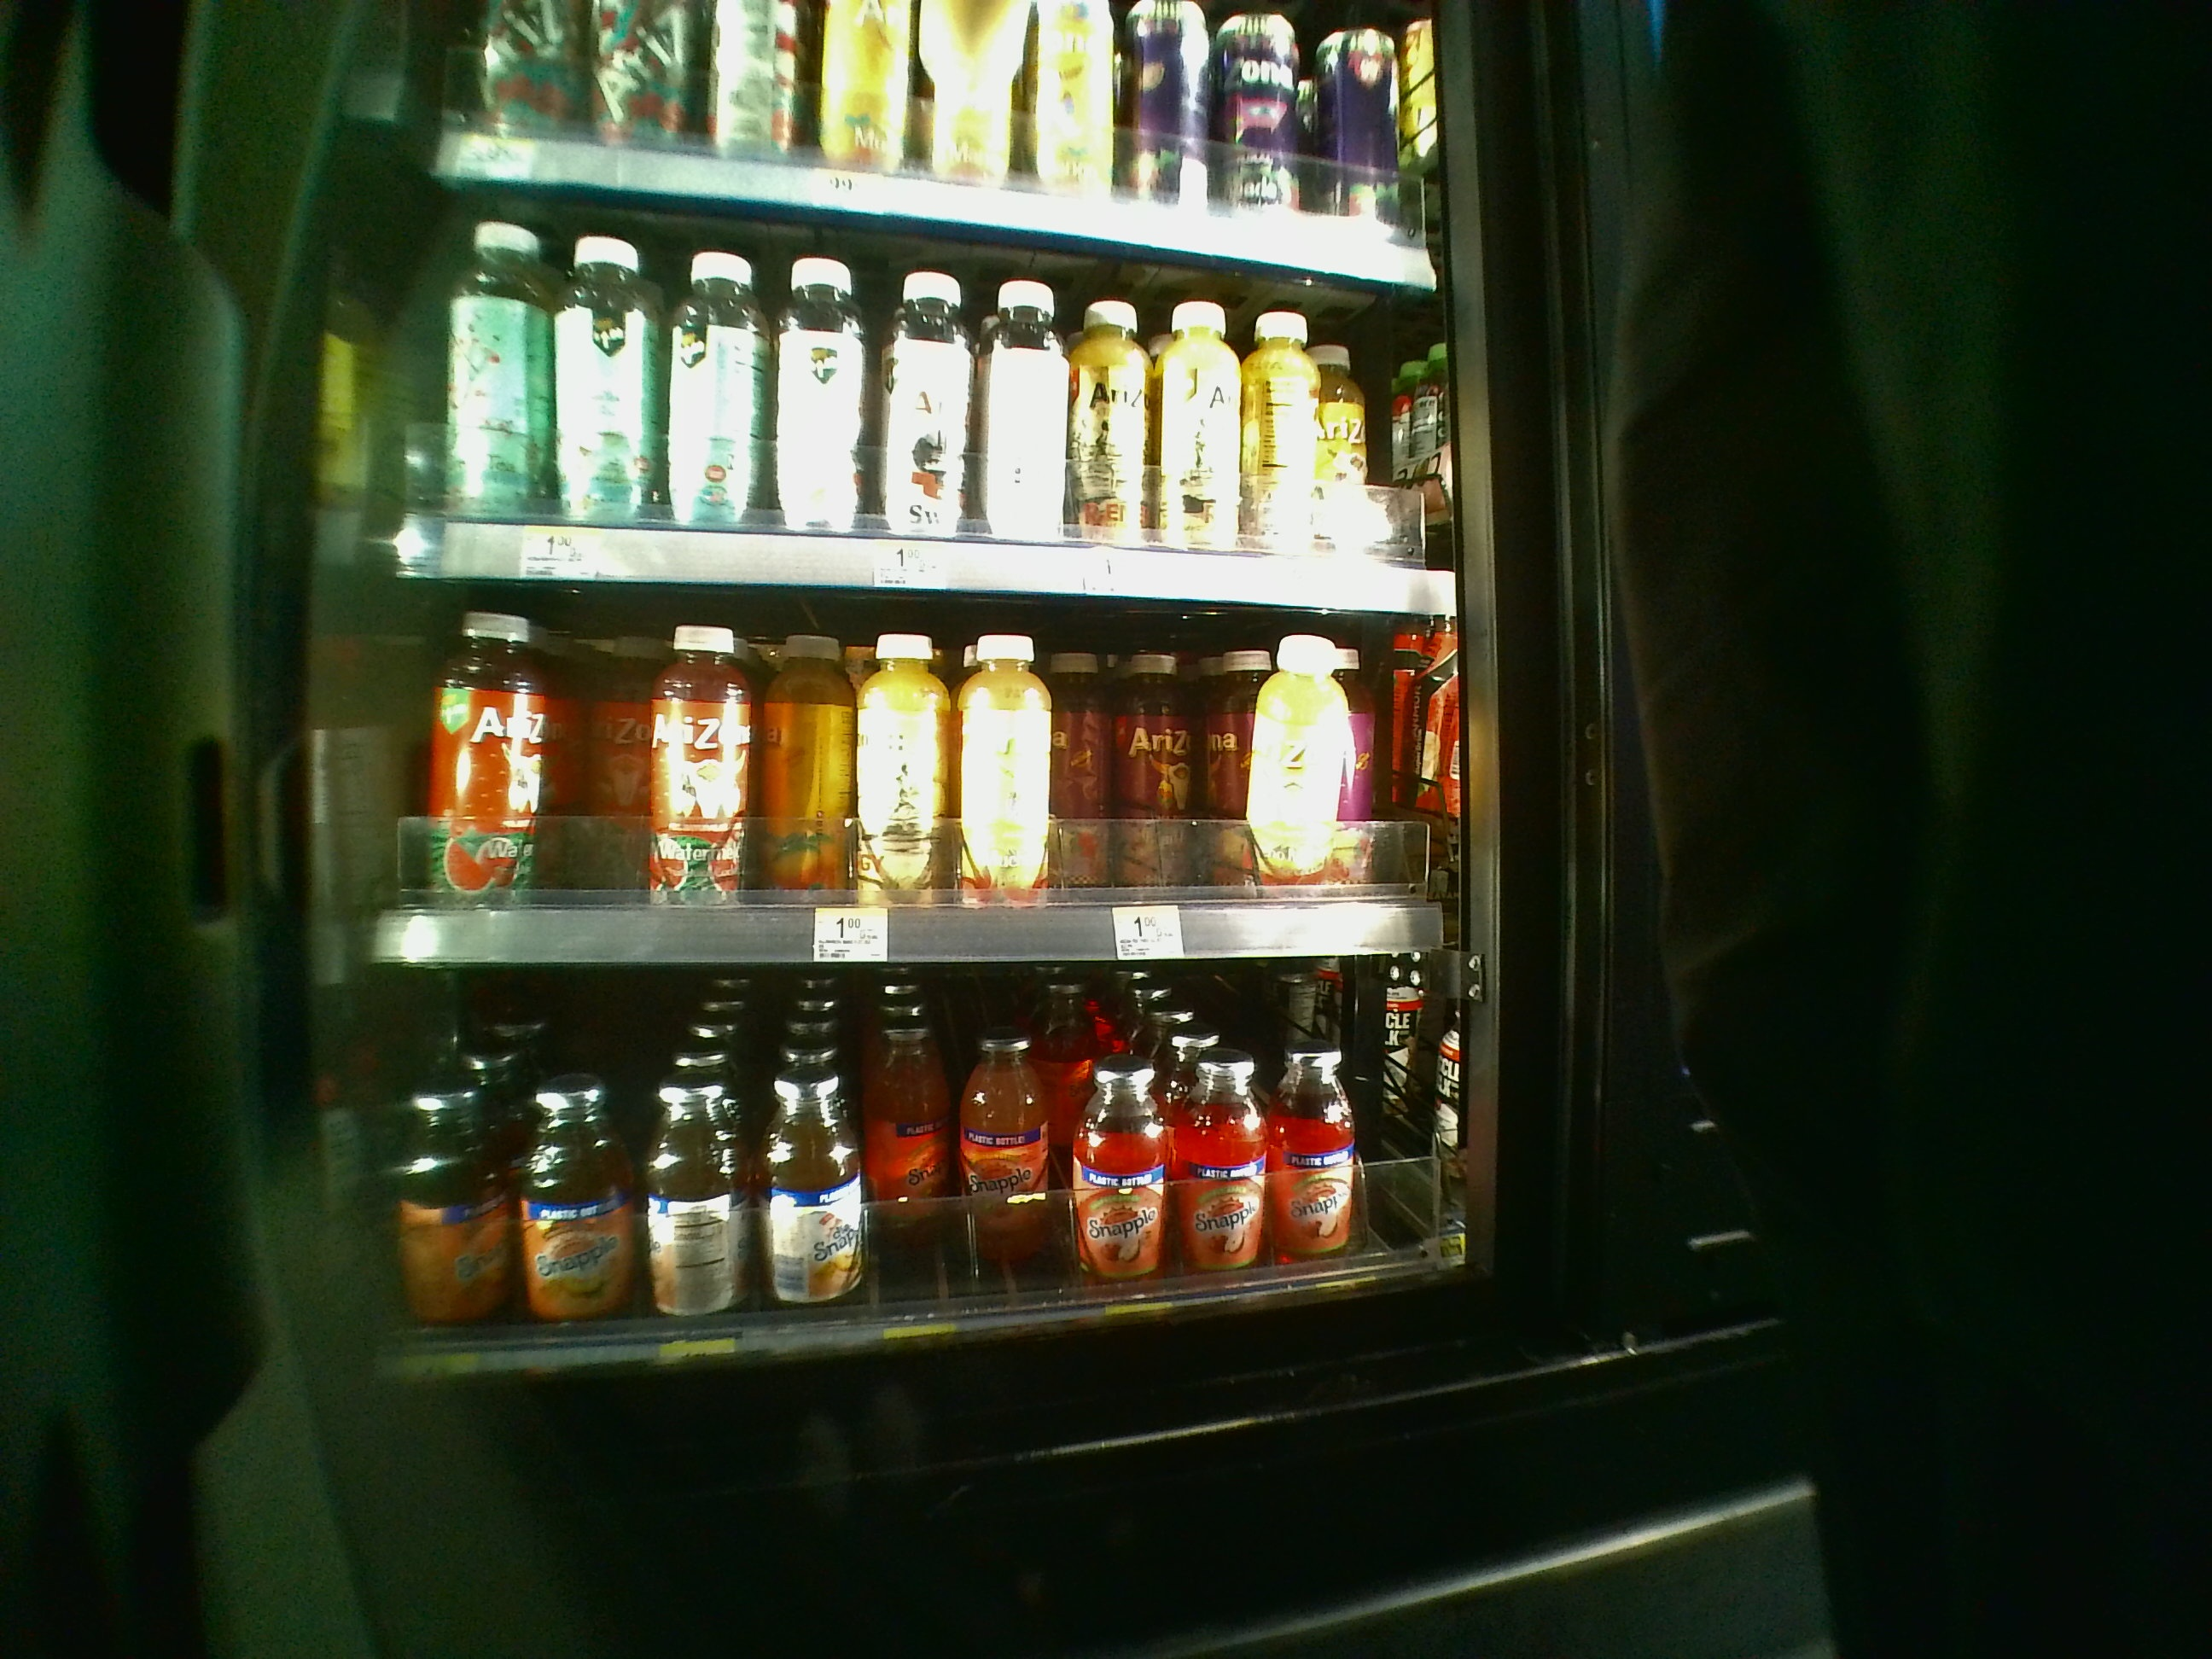shelf: (381, 979, 1460, 1385), (380, 579, 1453, 967)
